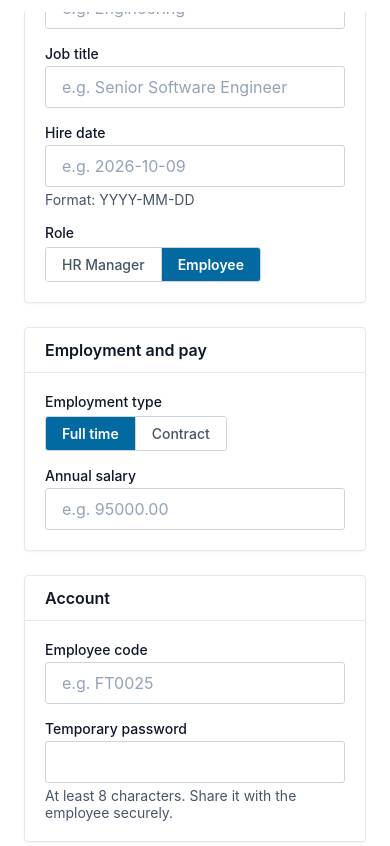
it: EmployeeForm when creating › shows pay fields for the chosen employment type
The image size is (390, 846).
(page scrolled)
Expected: the field named "Annual salary" is shown, [45,488,345,530]
Expected: the field labelled "Hourly rate" is not shown
Click the button "Contract". click: (180, 434)
box: [135,417,226,450]
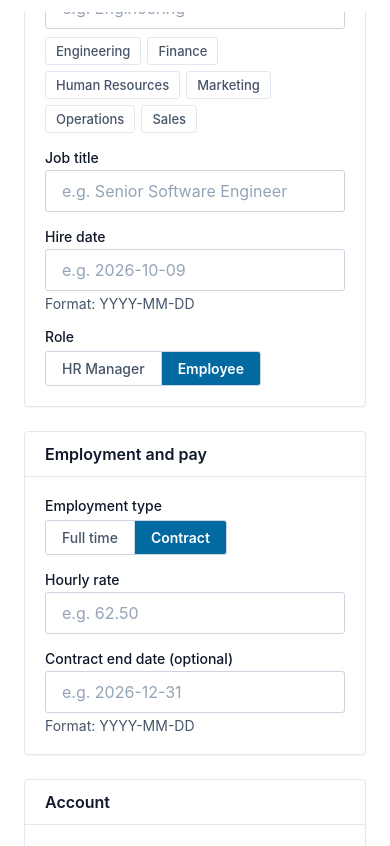
Expected: the text labelled "Annual salary" is gone
Expected: the field named "Hourly rate" is shown, [45,592,345,634]
Expected: the field named "Contract end date (optional)" is shown, [45,671,345,713]
